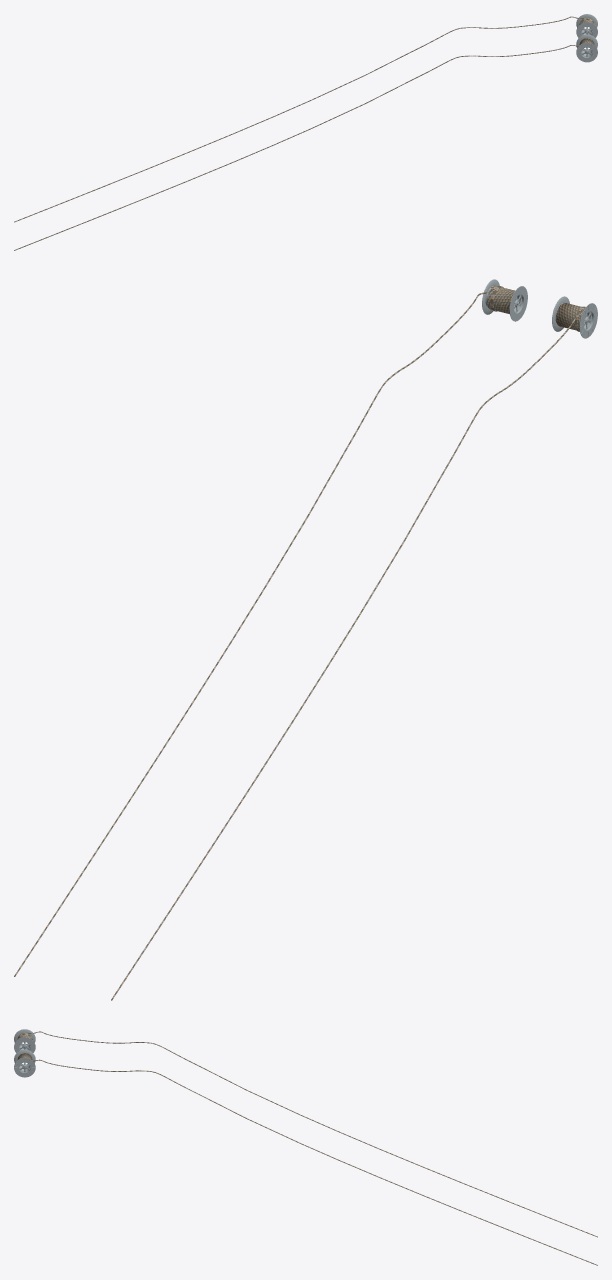
File: donghua03new.glb
The picture shows the model from 3 angles, top to bottom: view 1: azimuth 90°, elevation 25°; view 2: azimuth 150°, elevation 25°; view 3: azimuth 270°, elevation 25°; orthographic projection. The views are drawn at different scales.
Parts seen in each view (by area): view 1: lansheng02, gunlun01, lansheng; view 2: lansheng02, lansheng, gunlun01; view 3: lansheng02, gunlun01, lansheng.
Boxes of the visible parts, left/top/right/bottom form: lansheng02: left=14, top=28, right=460, bottom=250; gunlun01: left=576, top=14, right=597, bottom=62; lansheng: left=460, top=16, right=594, bottom=56; lansheng02: left=14, top=380, right=483, bottom=1000; lansheng: left=386, top=285, right=585, bottom=404; gunlun01: left=482, top=279, right=597, bottom=338; lansheng02: left=151, top=1043, right=597, bottom=1265; gunlun01: left=14, top=1029, right=35, bottom=1077; lansheng: left=17, top=1031, right=151, bottom=1071.
Bounding box in the file's own units: 3.2 × 10.72 × 27.26.
3 materials, 1 textured.
